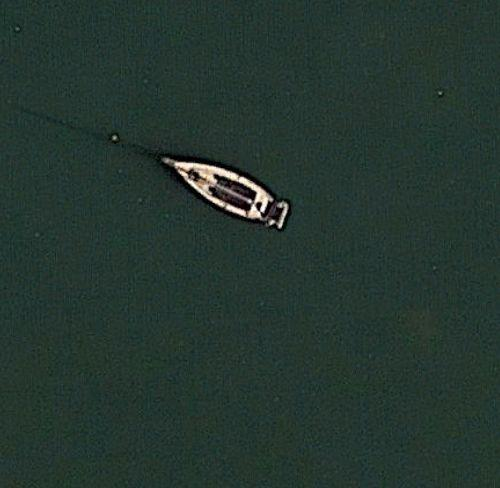Ships: (150, 139, 298, 235)
